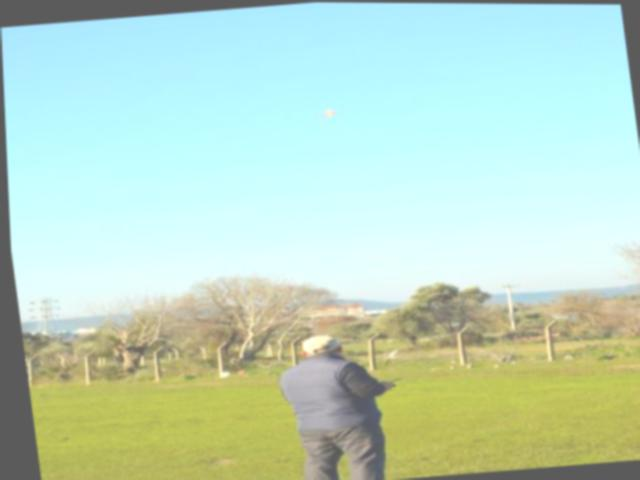iha: (319, 108, 335, 117)
